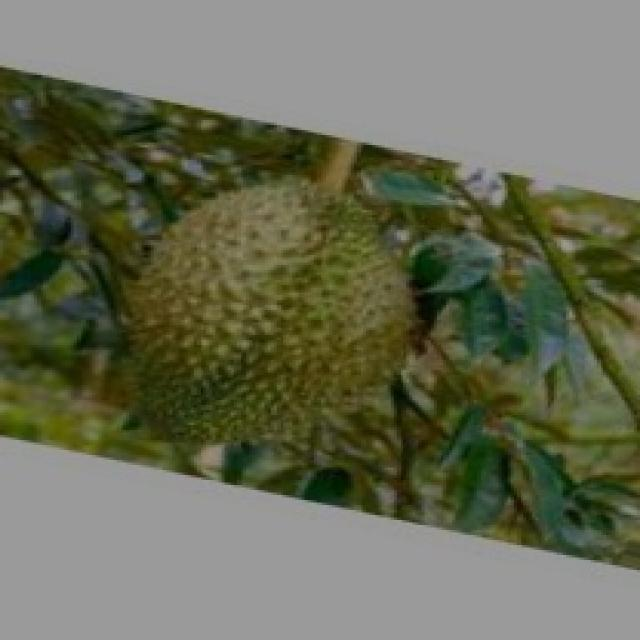fruit: (71, 143, 446, 495)
